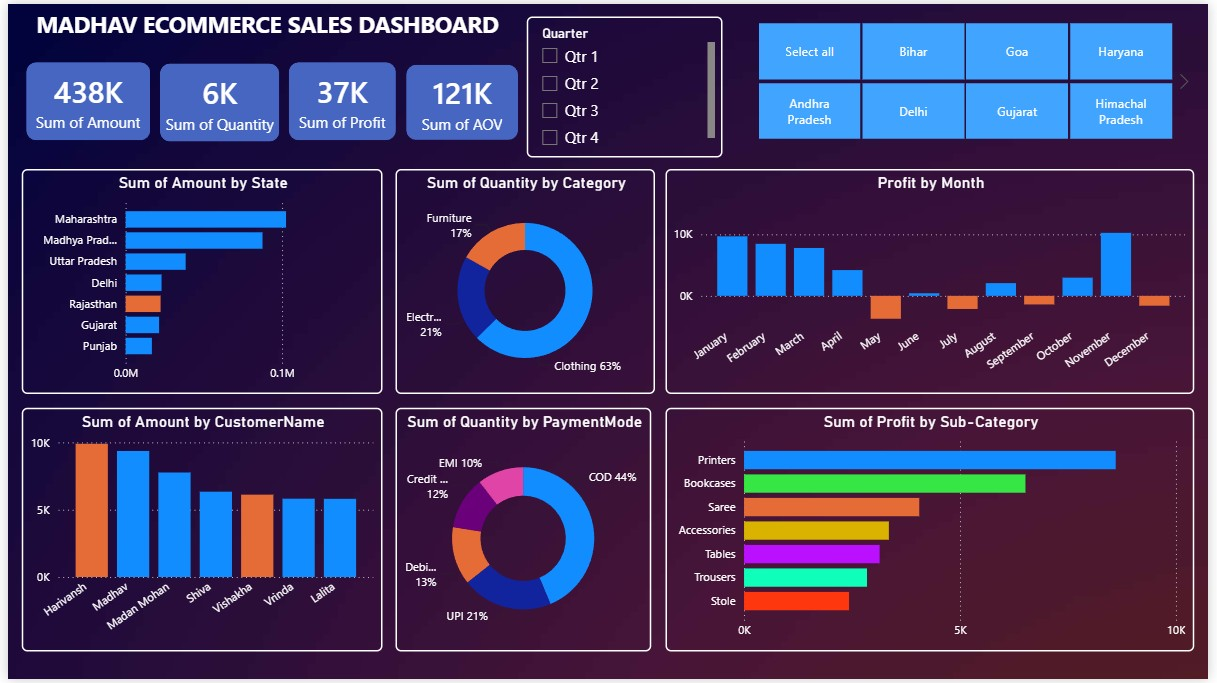

The dashboard page shown, as its layout file describes it:
{"tool":"powerbi","page":{"name":"Page 1","canvas":[1280,720],"ordinal":0},"visuals":[{"type":"textbox","box":[0,0,553.2,48.1],"z":0},{"type":"columnChart","fields":{"Y":["Sum(Details.Profit)"],"Category":["Orders.Order Date.Variation.Date Hierarchy.Month"]},"box":[701.3,176.6,563.6,240.3],"z":1000},{"type":"barChart","fields":{"Category":["Details.Sub-Category"],"Y":["Sum(Details.Profit)"]},"box":[701.3,431.2,563.6,259.7],"z":2000},{"type":"donutChart","fields":{"Category":["Details.Category"],"Y":["Sum(Details.Quantity)"]},"box":[413,176.6,276.6,240.3],"z":3000},{"type":"donutChart","fields":{"Y":["Sum(Details.Quantity)"],"Category":["Details.PaymentMode"]},"box":[413,431.2,272.7,259.7],"z":4000},{"type":"cardVisual","fields":{"Data":["Sum(Details.Amount)"]},"box":[14.3,57.1,142.9,93.5],"z":5000},{"type":"cardVisual","fields":{"Data":["Sum(Details.Quantity)"]},"box":[157.1,58.4,137.7,93.5],"z":6000},{"type":"cardVisual","fields":{"Data":["Sum(Details.Profit)"]},"box":[294.8,57.1,124.7,93.5],"z":7000},{"type":"cardVisual","fields":{"Data":["Sum(Details.AOV)"]},"box":[419.5,59.7,129.9,90.9],"z":8000},{"type":"barChart","fields":{"Category":["Orders.State"],"Y":["Sum(Details.Amount)"]},"box":[14.3,176.6,384.4,240.3],"z":9000},{"type":"columnChart","fields":{"Category":["Orders.CustomerName"],"Y":["Sum(Details.Amount)"]},"box":[14.3,431.2,384.4,259.7],"z":10000},{"type":"slicer","fields":{"Values":["Orders.Order Date.Variation.Date Hierarchy.Quarter"]},"box":[553.2,13,209.1,150.6],"z":11000},{"type":"slicer","fields":{"Values":["Orders.State"]},"box":[774,13,490.9,137.7],"z":12000}]}

Visuals, with their boxes in screenshot pixels (x1, y1, x2, y2), scaled from the page's 1280x720 canvas onto the 1217x683 screenshot:
textbox: Rect(0, 0, 526, 46)
columnChart - Sum(Details.Profit) x Orders.Order Date.Variation.Date Hierarchy.Month: Rect(667, 168, 1203, 395)
barChart - Details.Sub-Category x Sum(Details.Profit): Rect(667, 409, 1203, 655)
donutChart - Details.Category x Sum(Details.Quantity): Rect(393, 168, 656, 395)
donutChart - Sum(Details.Quantity) x Details.PaymentMode: Rect(393, 409, 652, 655)
cardVisual - Sum(Details.Amount): Rect(14, 54, 149, 143)
cardVisual - Sum(Details.Quantity): Rect(149, 55, 280, 144)
cardVisual - Sum(Details.Profit): Rect(280, 54, 399, 143)
cardVisual - Sum(Details.AOV): Rect(399, 57, 522, 143)
barChart - Orders.State x Sum(Details.Amount): Rect(14, 168, 379, 395)
columnChart - Orders.CustomerName x Sum(Details.Amount): Rect(14, 409, 379, 655)
slicer - Orders.Order Date.Variation.Date Hierarchy.Quarter: Rect(526, 12, 725, 155)
slicer - Orders.State: Rect(736, 12, 1203, 143)
